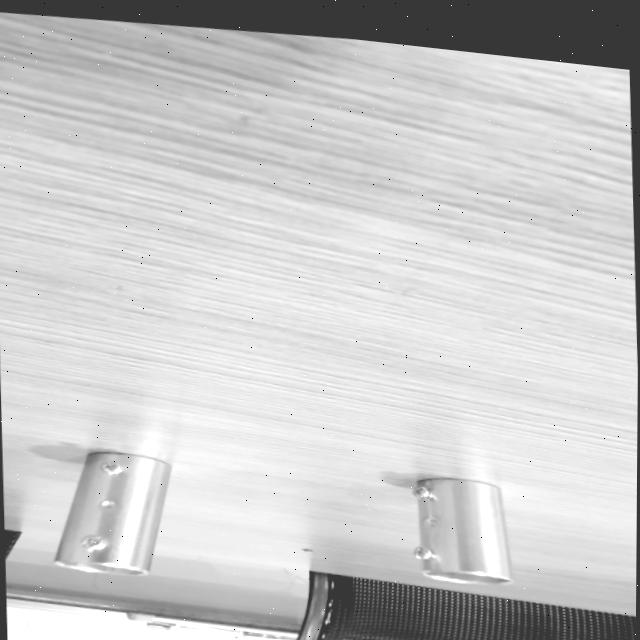Co_Lon: (53, 441, 172, 583)
Co_Nho: (412, 476, 511, 583)
